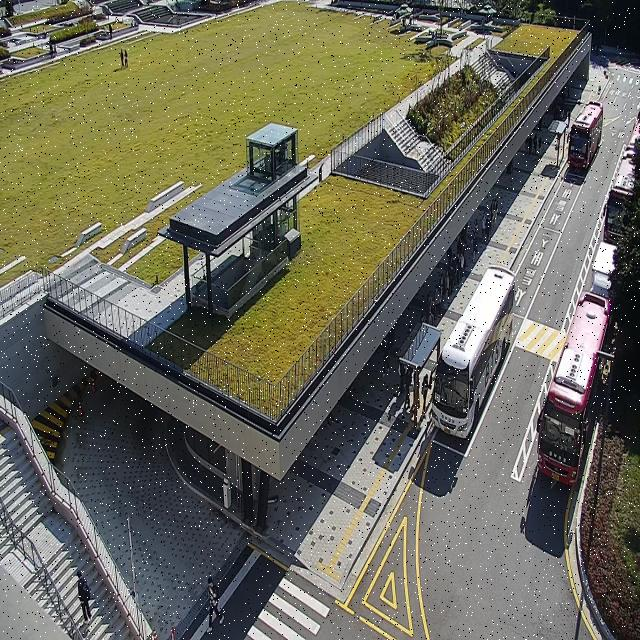queue: (416, 196, 498, 432)
